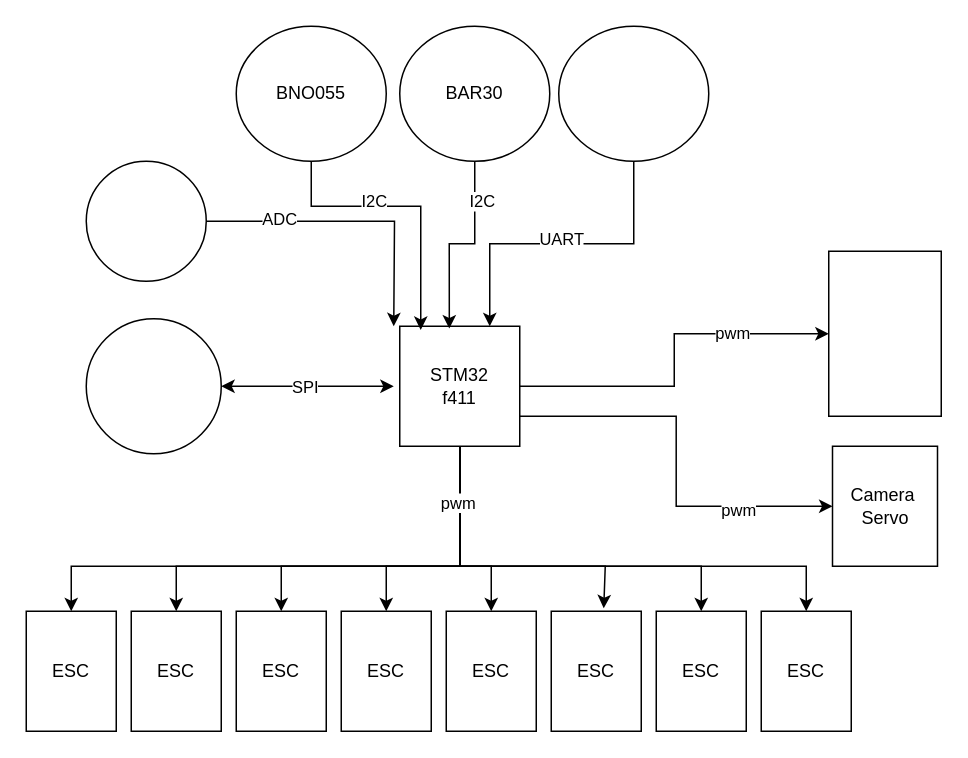
This 968x758 diagram has some shape labels left out. The shapes that lost their labels are listed below. From the top down, each one's centre as x and y in pixels, then its label:
At point 633,93: "Ping sonar".
At point 145,220: "Power Monitor".
At point 884,333: "Light PWM".
At point 153,385: "W5500".
